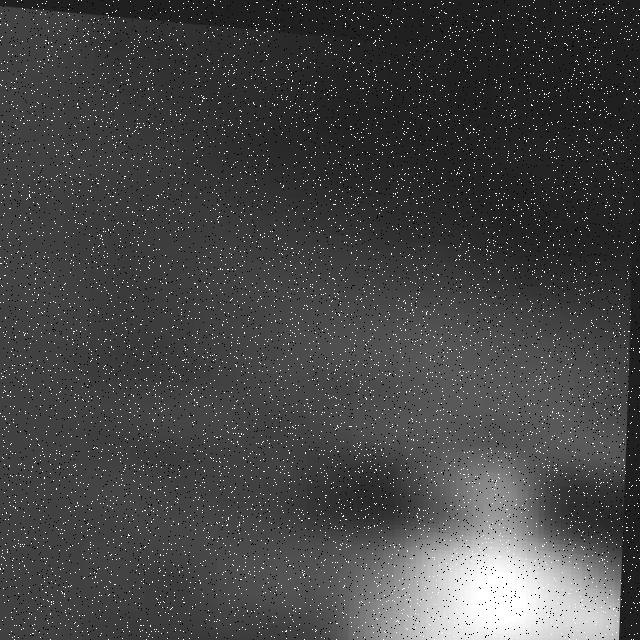person: (325, 403, 630, 640)
